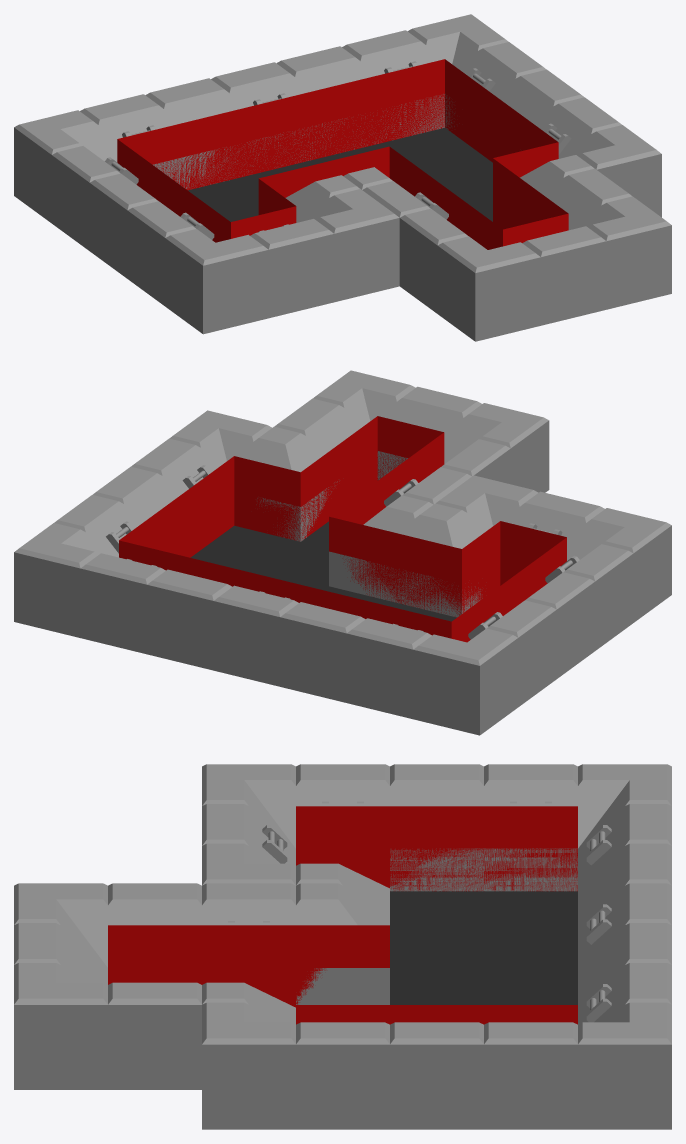
The model's file is level_2.fbx.
The picture shows the model from 3 angles, top to bottom: view 1: azimuth 30°, elevation 25°; view 2: azimuth 150°, elevation 25°; view 3: azimuth 270°, elevation 25°; orthographic projection. The views are drawn at different scales.
Visible parts, largest first — view 1: Plane.025, bounds.002, ground.002; view 2: Plane.025, bounds.002, ground.002; view 3: Plane.025, bounds.002, ground.002.
Boxes of the visible parts, x1=… form: Plane.025: x1=14, y1=14, x2=671, y2=341; bounds.002: x1=117, y1=59, x2=568, y2=249; ground.002: x1=188, y1=127, x2=492, y2=221; Plane.025: x1=14, y1=370, x2=671, y2=735; bounds.002: x1=119, y1=416, x2=566, y2=642; ground.002: x1=190, y1=521, x2=456, y2=621; Plane.025: x1=14, y1=764, x2=671, y2=1129; bounds.002: x1=108, y1=806, x2=577, y2=1024; ground.002: x1=390, y1=891, x2=577, y2=1004.
Bounding box in the file's own units: 700 × 105 × 700.
